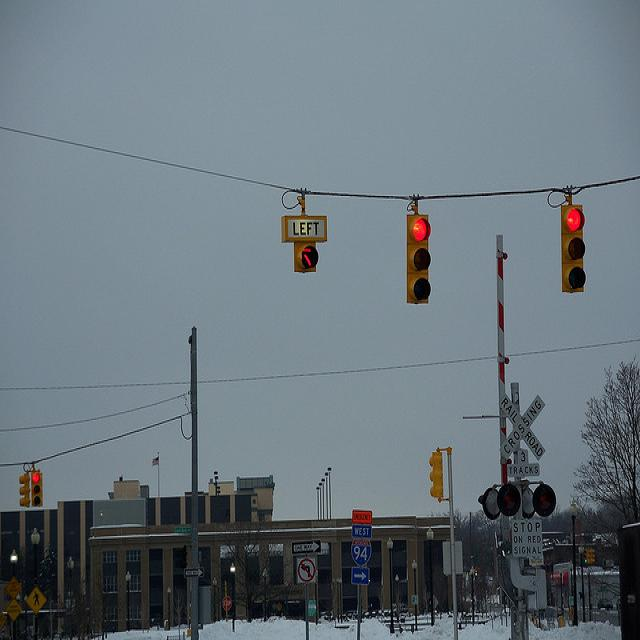Vehicle: (596, 598, 614, 610)
